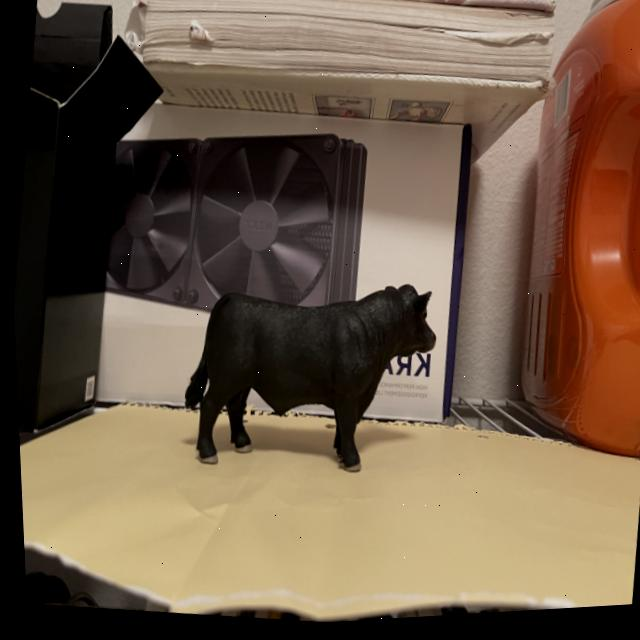cow: (177, 277, 435, 480)
